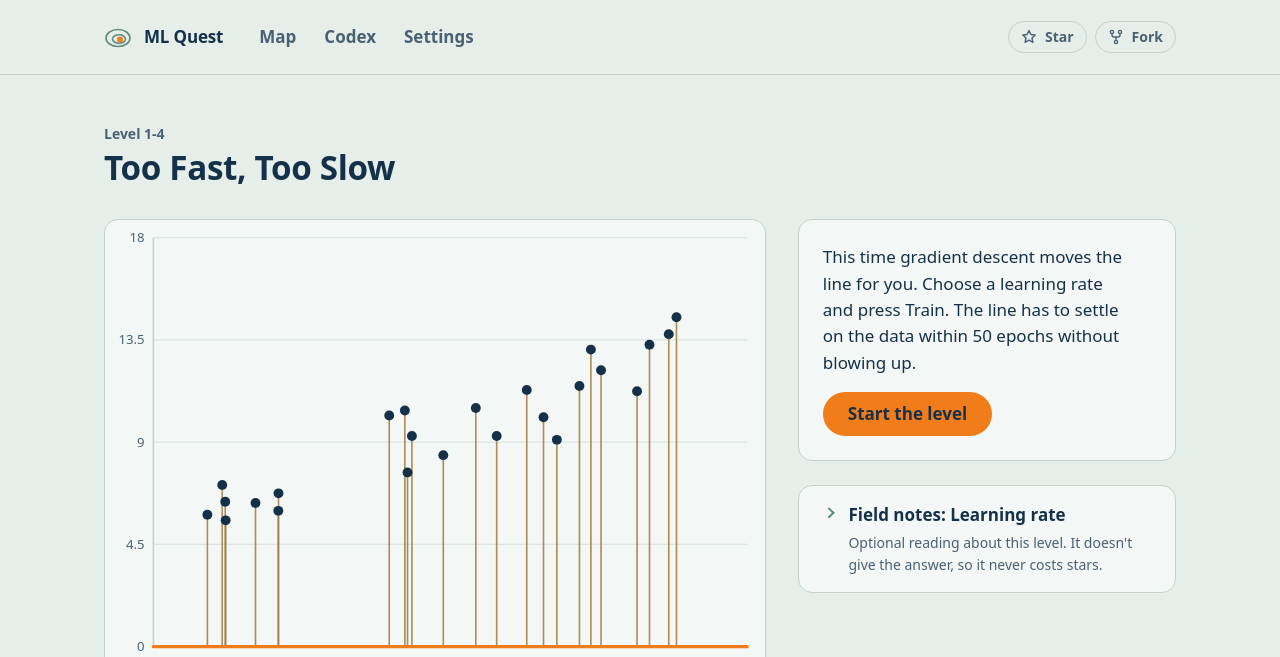
Test: App › Too Fast, Too Slow: a tiny rate is too slow, a huge one blows up, the sweet spot converges
This screenshot has width=1280, height=657.
Step 1. Click the button "Start the level" → coordinates (907, 414), box x1=823 y1=392 x2=992 y2=436
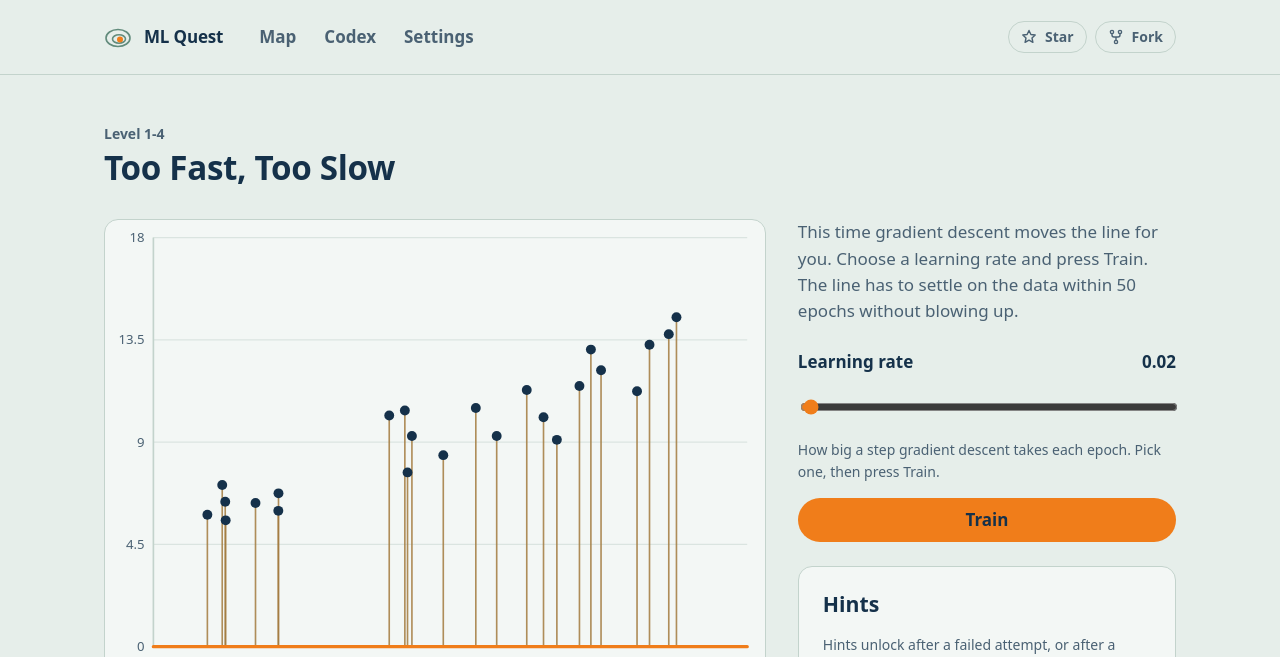
Note: Default rate 0.02: too slow.
Step 2. Click the button "Train" → coordinates (987, 520), box x1=798 y1=498 x2=1176 y2=542
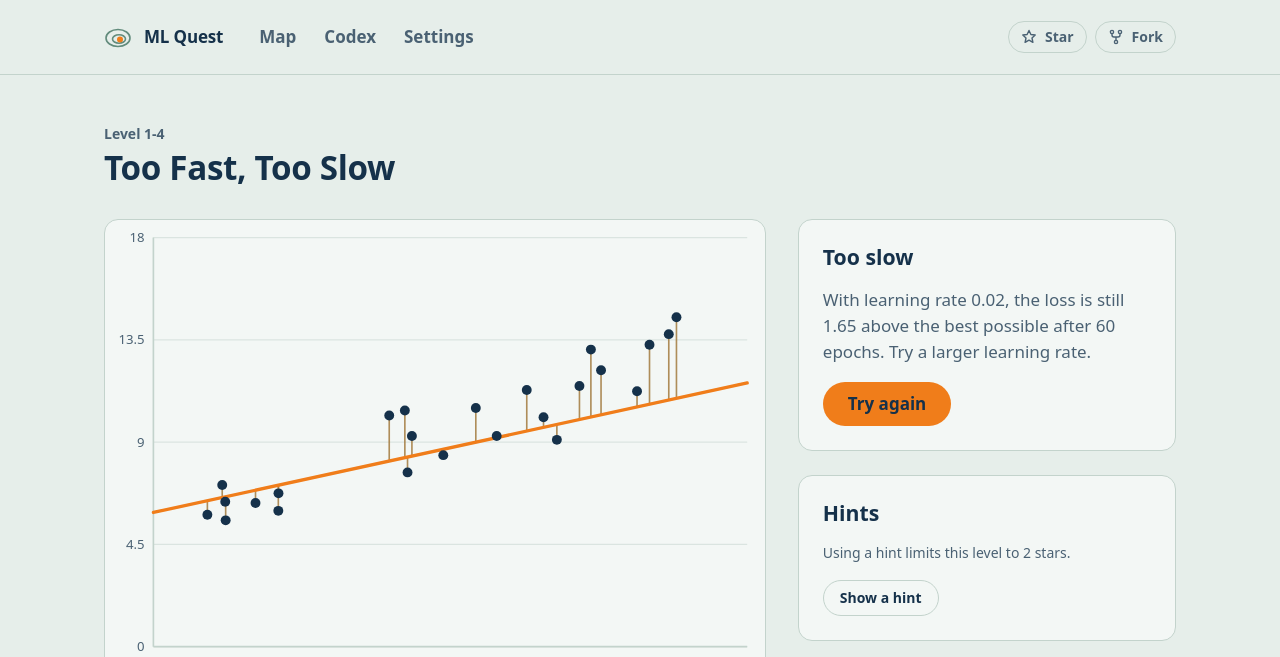
Expected: the heading "Too slow" is shown, x1=823 y1=242 x2=913 y2=271
Step 3. Click the button "Try again" → coordinates (887, 404), box x1=823 y1=382 x2=951 y2=426
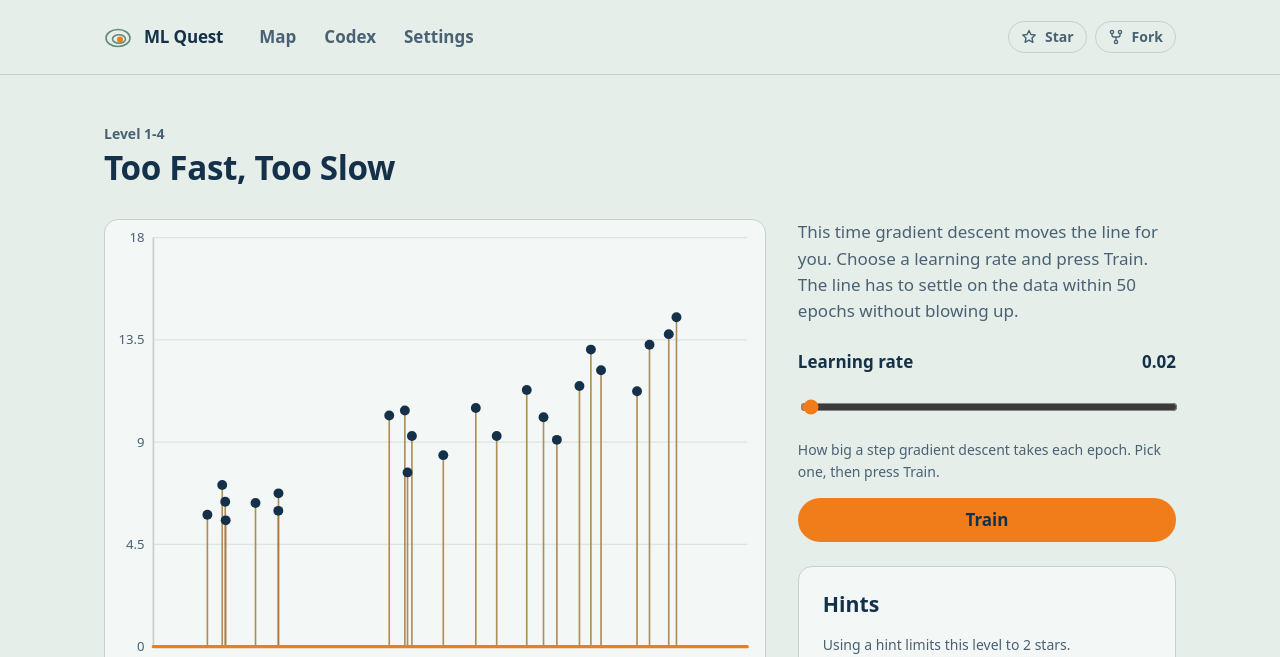
Step 4. Set the slider labelled "Learning rate" to "1.2" → coordinates (1170, 407), box x1=800 y1=385 x2=1178 y2=429
Step 5. Click the button "Train" → coordinates (987, 520), box x1=798 y1=498 x2=1176 y2=542
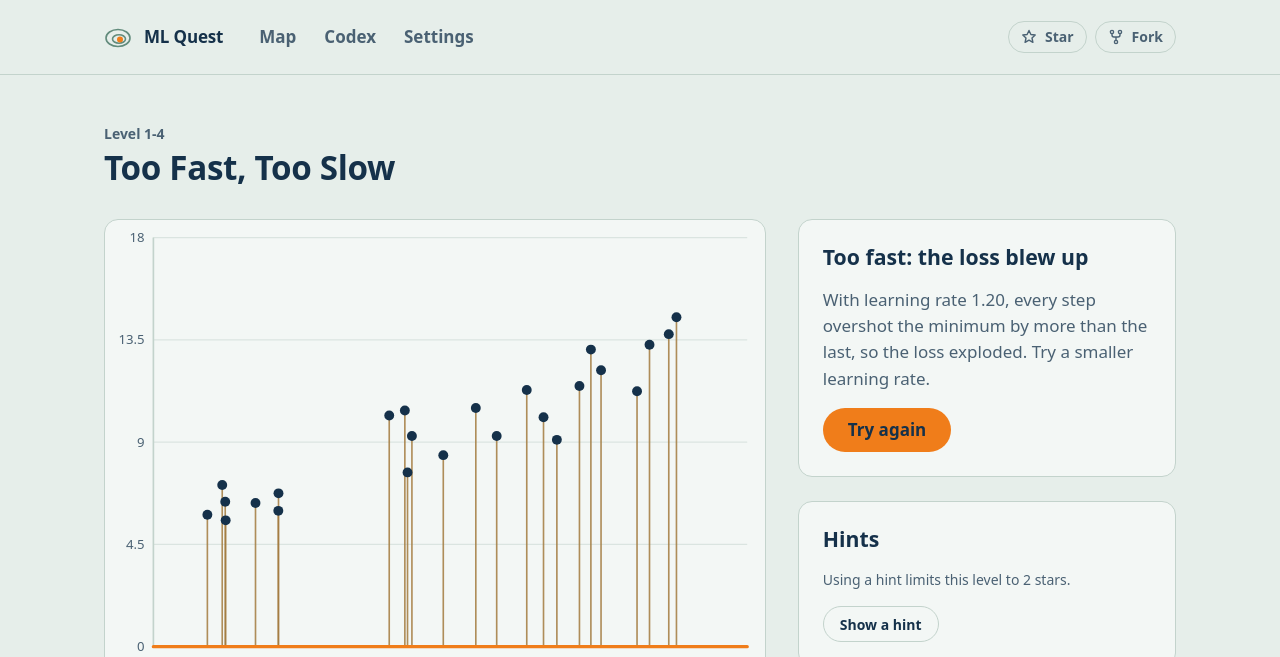
Expected: the heading "Too fast: the loss blew up" is shown, x1=823 y1=242 x2=1088 y2=271
Step 6. Click the button "Try again" → coordinates (887, 430), box x1=823 y1=408 x2=951 y2=452
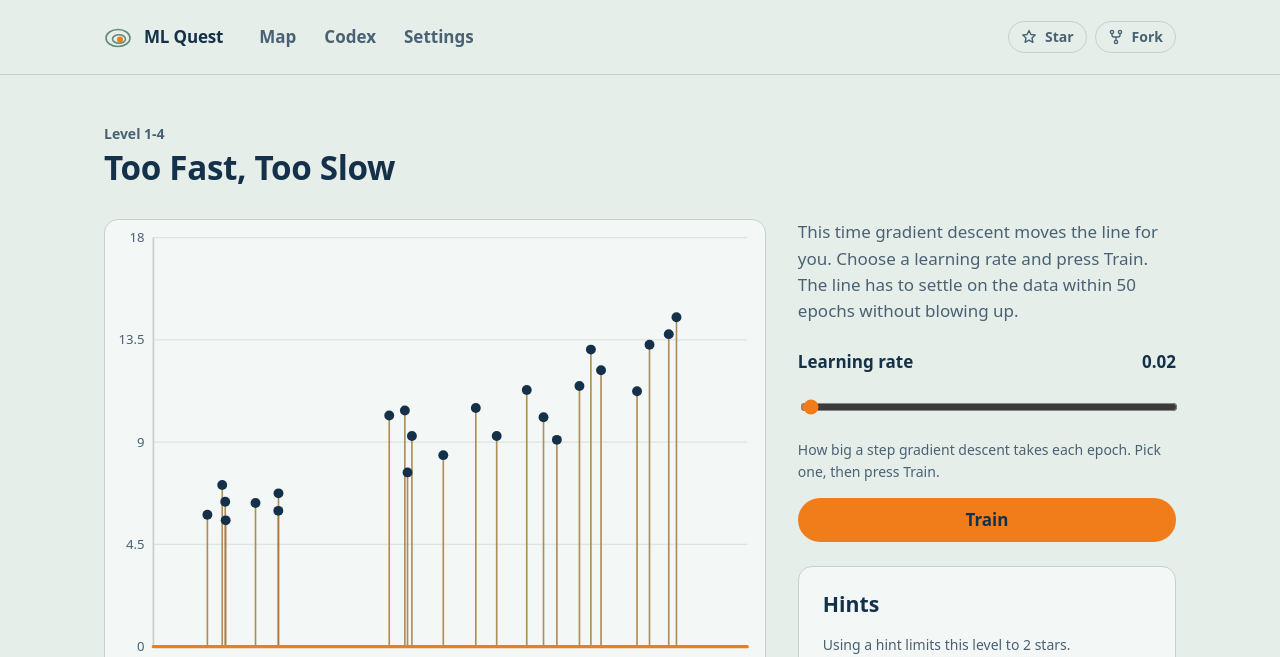
Step 7. Set the slider labelled "Learning rate" to "0.6" → coordinates (987, 407), box x1=800 y1=385 x2=1178 y2=429
Step 8. Click the button "Train" → coordinates (987, 520), box x1=798 y1=498 x2=1176 y2=542
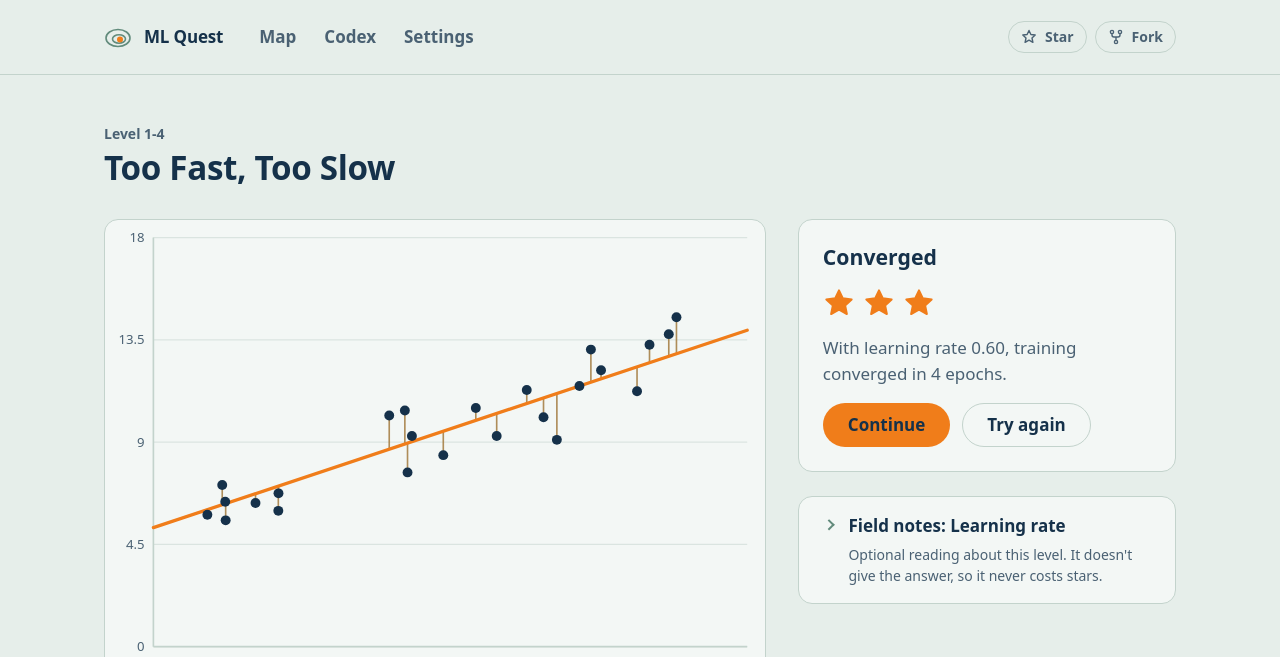
Expected: the heading "Converged" is shown, x1=823 y1=242 x2=937 y2=271
Expected: the picture named "3 of 3 stars" is shown, x1=823 y1=287 x2=935 y2=319
Expected: the text "With learning rate 0.60, training converged in 4 epochs." is shown, x1=823 y1=336 x2=1076 y2=385
